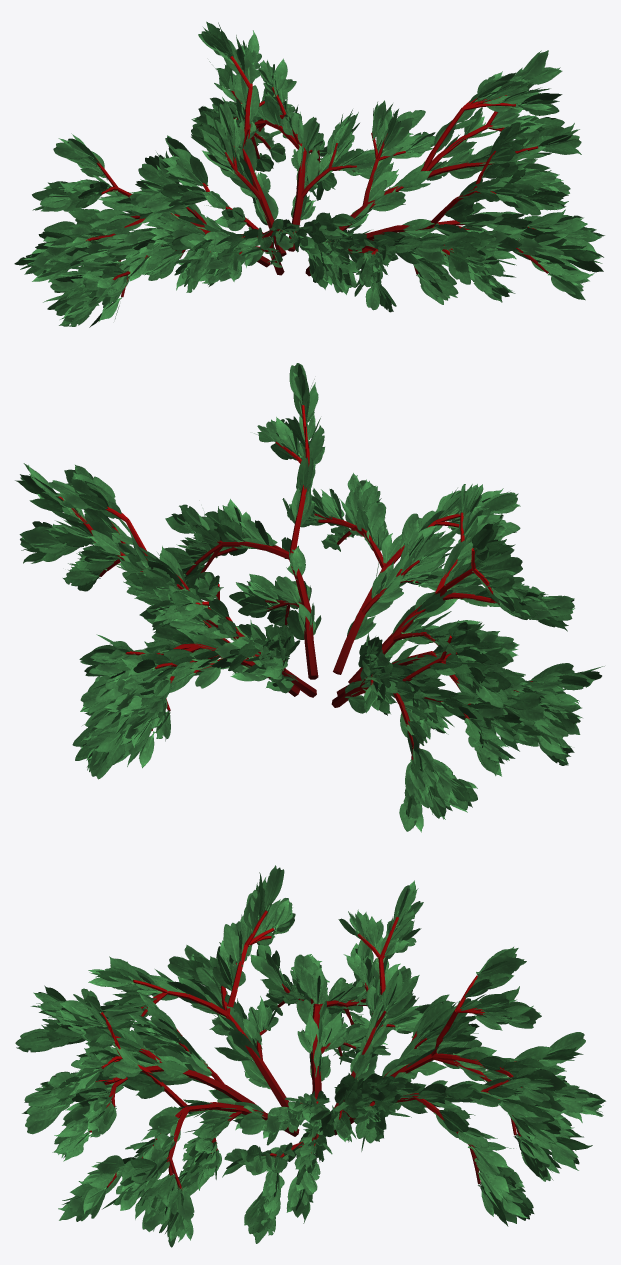
File: salal_understory_v01.fbx
The picture shows the model from 3 angles, top to bottom: view 1: azimuth 30°, elevation 25°; view 2: azimuth 150°, elevation 25°; view 3: azimuth 270°, elevation 25°; orthographic projection. The views are drawn at different scales.
Parts seen in each view (by area): view 1: salal_understory_v01; view 2: salal_understory_v01; view 3: salal_understory_v01.
Boxes of the visible parts, left/top/right/bottom form: salal_understory_v01: left=14, top=21, right=604, bottom=327; salal_understory_v01: left=15, top=363, right=604, bottom=832; salal_understory_v01: left=15, top=865, right=605, bottom=1247.
Size of the model in its own units: 178 by 75.49 by 161.
